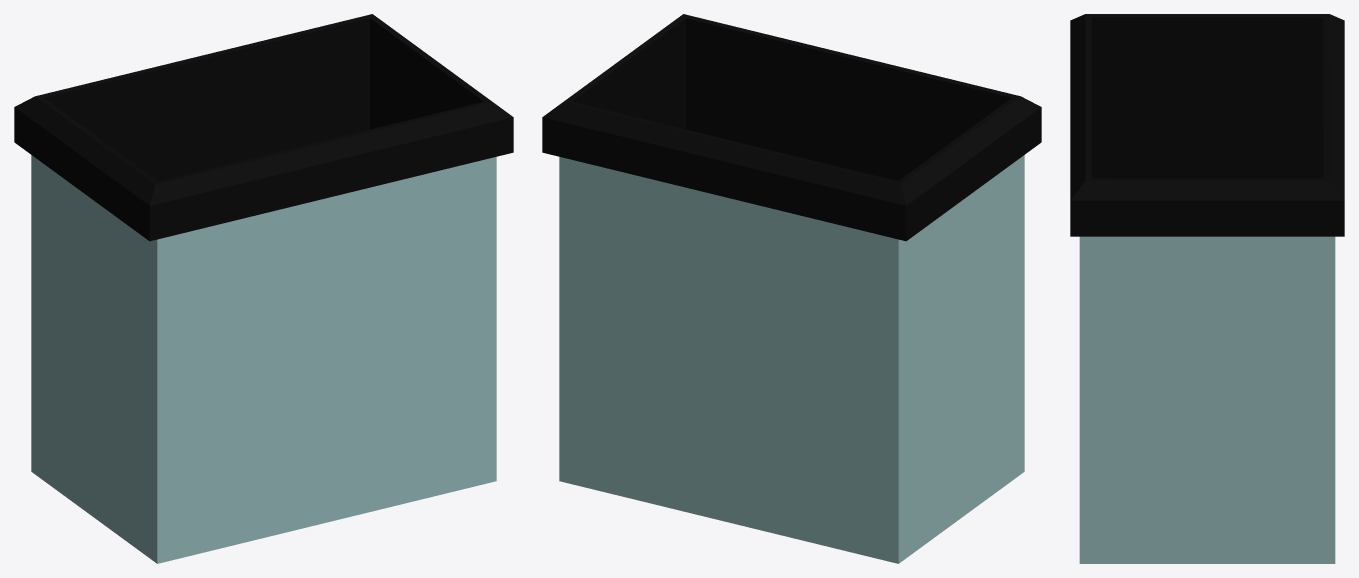
Rendered from geo_TrashCanEmpty_03.fbx.
The picture shows the model from 3 angles, left to right: view 1: azimuth 30°, elevation 25°; view 2: azimuth 150°, elevation 25°; view 3: azimuth 270°, elevation 25°; orthographic projection.
Visible parts, largest first — view 1: geo_TrashCanEmpty_01; view 2: geo_TrashCanEmpty_01; view 3: geo_TrashCanEmpty_01.
Part boxes in pixels (left/top/right/bottom): geo_TrashCanEmpty_01: left=14, top=14, right=513, bottom=563; geo_TrashCanEmpty_01: left=542, top=14, right=1041, bottom=563; geo_TrashCanEmpty_01: left=1070, top=14, right=1344, bottom=563.
Size of the model in its own units: 60.38 by 59.82 by 38.86.
1 material, 1 textured.
